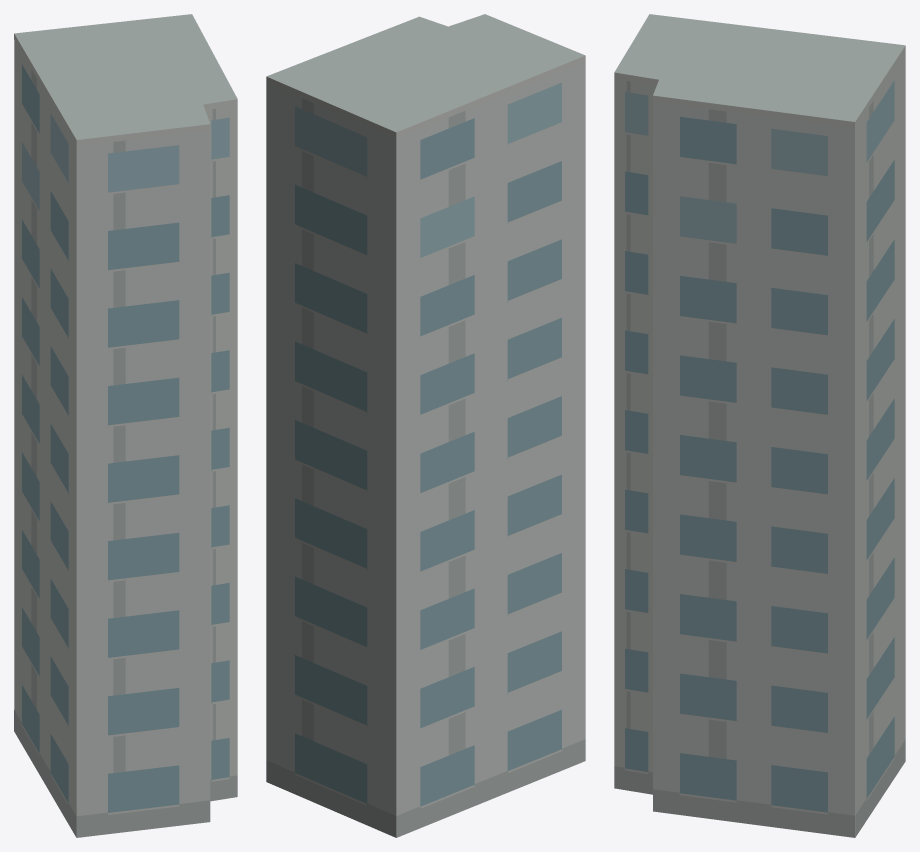
The model's file is survey-upis-32872772.glb.
3 renders of one model, left to right at view 1: azimuth 30°, elevation 25°; view 2: azimuth 150°, elevation 25°; view 3: azimuth 270°, elevation 25°, orthographic. The views are drawn at different scales.
Visible parts, largest first — view 1: survey-upis-32872772.tmp; view 2: survey-upis-32872772.tmp; view 3: survey-upis-32872772.tmp.
Boxes of the visible parts, box(x1,y1,x2,y2) form: survey-upis-32872772.tmp: box(14, 14, 237, 837); survey-upis-32872772.tmp: box(266, 14, 585, 837); survey-upis-32872772.tmp: box(614, 14, 905, 837).
Bounding box in the file's own units: 8.89 × 27.45 × 10.14.
